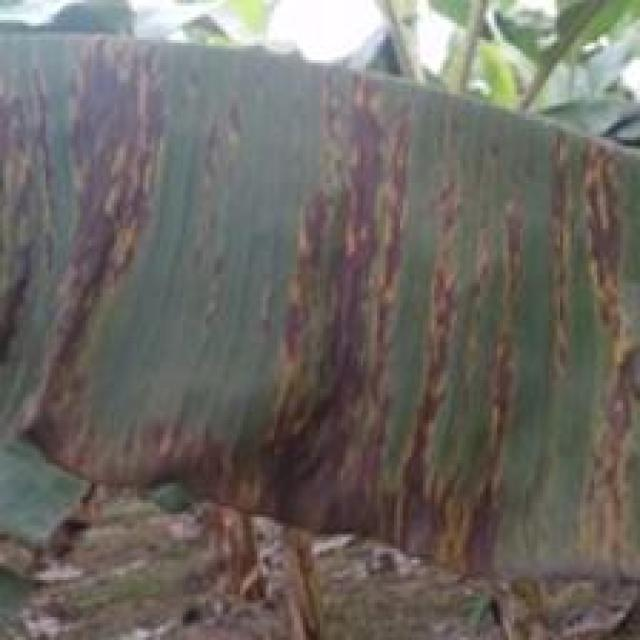Early_leaf_spot: (251, 48, 640, 586), (0, 24, 167, 499), (157, 52, 263, 414), (102, 400, 308, 536)
